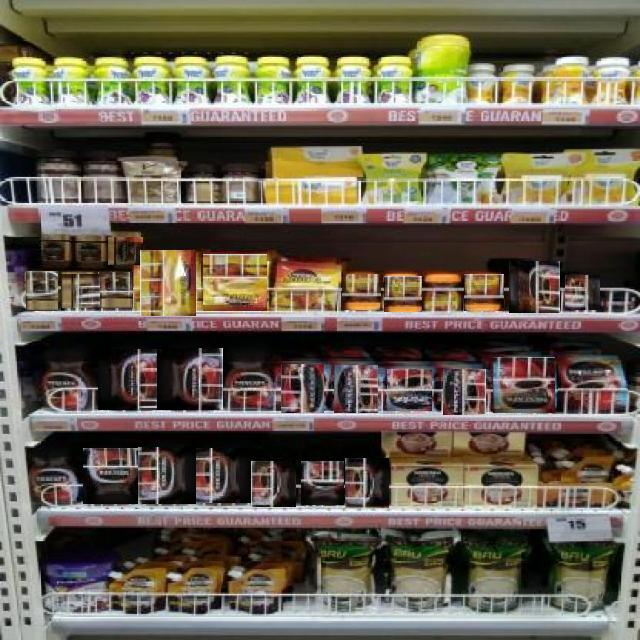Coffee: (96, 348, 162, 410), (157, 348, 223, 410), (558, 356, 628, 411), (221, 346, 279, 412), (39, 347, 98, 411), (140, 250, 196, 316), (203, 254, 267, 311), (493, 356, 555, 413), (137, 447, 196, 504), (190, 448, 251, 503), (82, 447, 138, 504), (276, 262, 339, 311), (28, 447, 81, 504), (509, 260, 560, 313), (345, 458, 389, 508), (280, 364, 324, 413), (334, 364, 378, 413), (250, 461, 296, 507), (443, 368, 486, 415), (386, 368, 432, 411), (300, 461, 344, 505), (463, 274, 504, 311), (341, 273, 381, 310), (383, 275, 422, 312), (423, 275, 463, 311), (61, 273, 100, 308), (25, 270, 58, 311), (97, 271, 133, 308), (565, 276, 600, 310), (75, 235, 108, 269), (106, 236, 143, 265), (39, 235, 70, 269), (606, 289, 640, 313)
